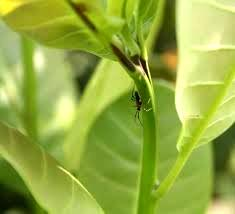Helopeltis-insect: (132, 91, 145, 112)
